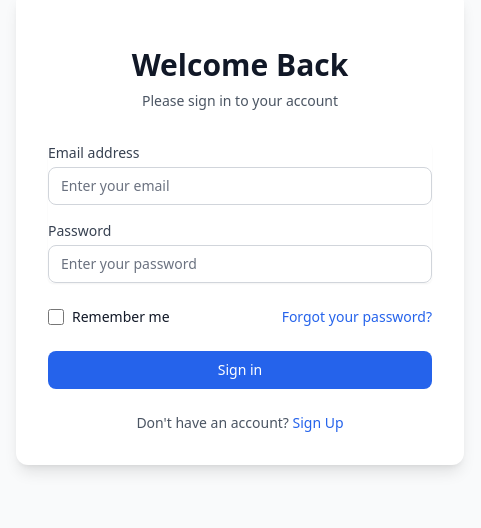
it: Login Component › shows error message on failed login
This screenshot has width=481, height=528.
Note: Simulate user input for email and password
Type "wrong@example.com" into the field labelled "Email address" at (240, 186), box [48, 167, 432, 205]
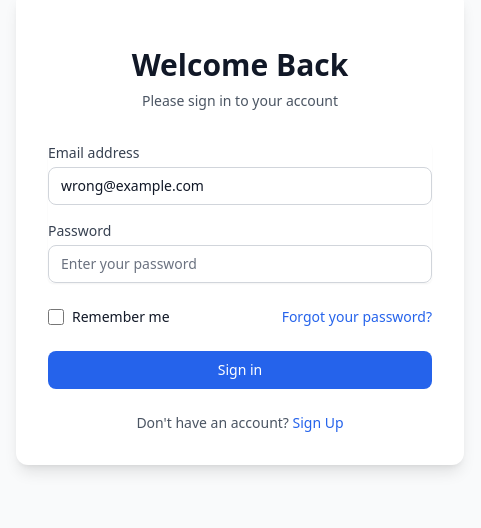
Type "wrongpassword" into the password field labelled "Password" at (240, 264), box [48, 245, 432, 283]
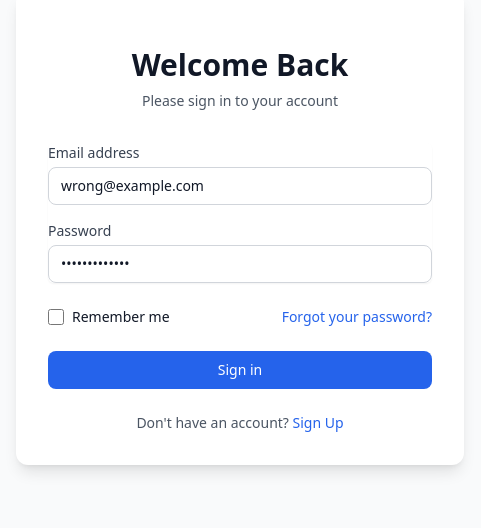
Note: Simulate button click for form submission
Click the button "Sign in" at (240, 370), box [48, 351, 432, 389]
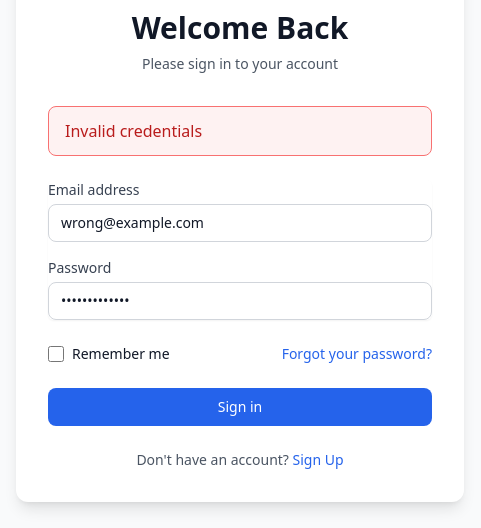
Check: the text "Invalid credentials" is shown, box [48, 106, 432, 156]
